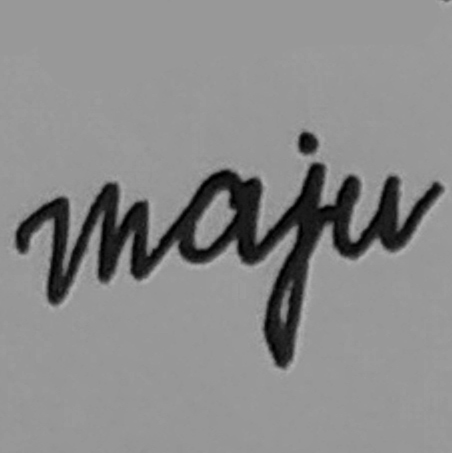a: (195, 183, 247, 237)
j: (239, 163, 283, 289)
m: (130, 187, 191, 256)
u: (275, 185, 316, 232)
